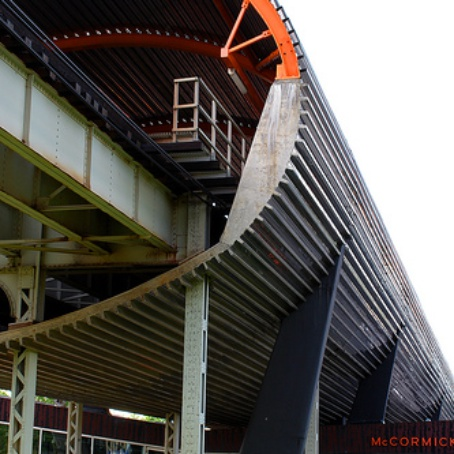bridge: (1, 1, 213, 271)
building: (1, 1, 449, 435)
